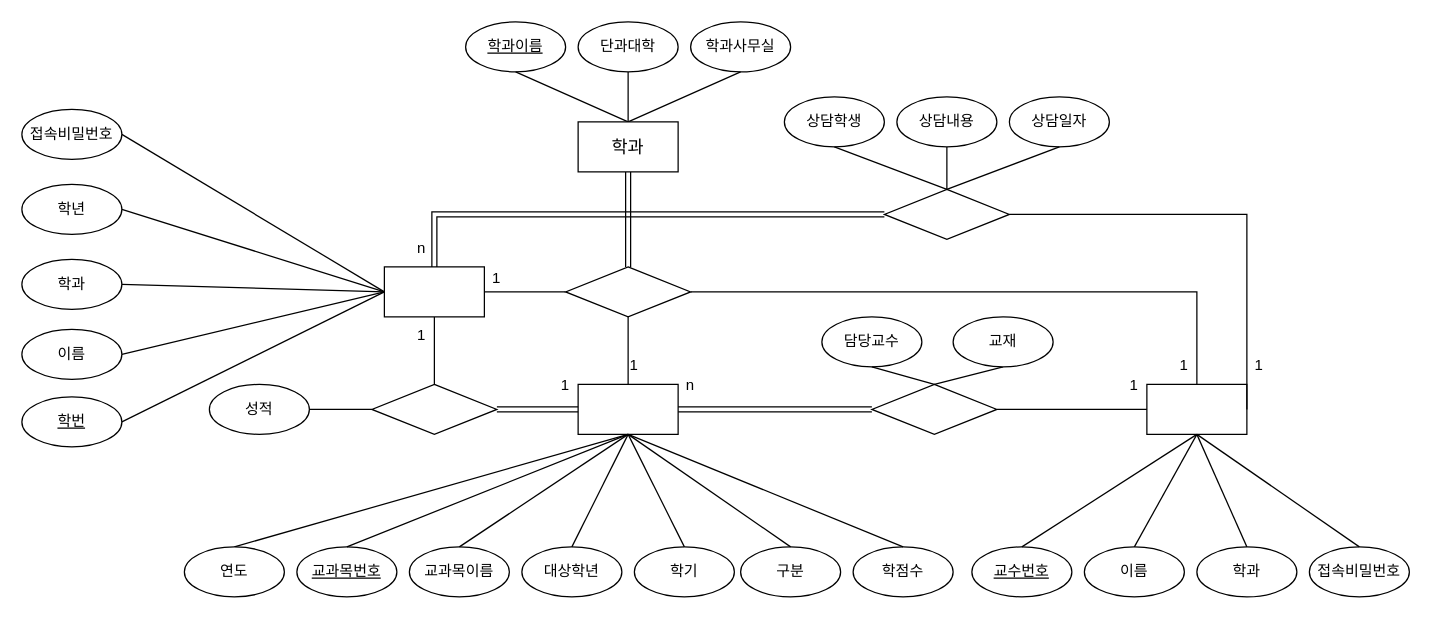
Image size: 1431x619. Some labels were removed from this diagram. Here are the shapes that lost their labels. From the top down, the centre of each, then its label:
At point (946, 213): "지도".
At point (433, 291): "학생".
At point (627, 291): "소속".
At point (434, 408): "수강신청".
At point (627, 408): "교과목".
At point (934, 408): "개설".
At point (1196, 408): "교수".
